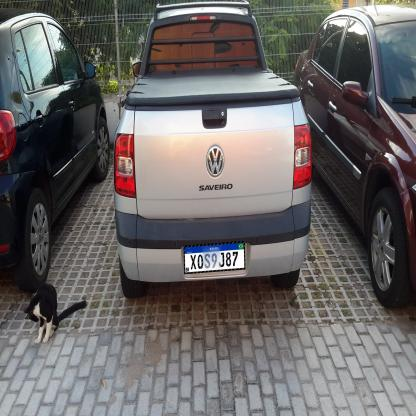PlacaM: (184, 241, 245, 274)
